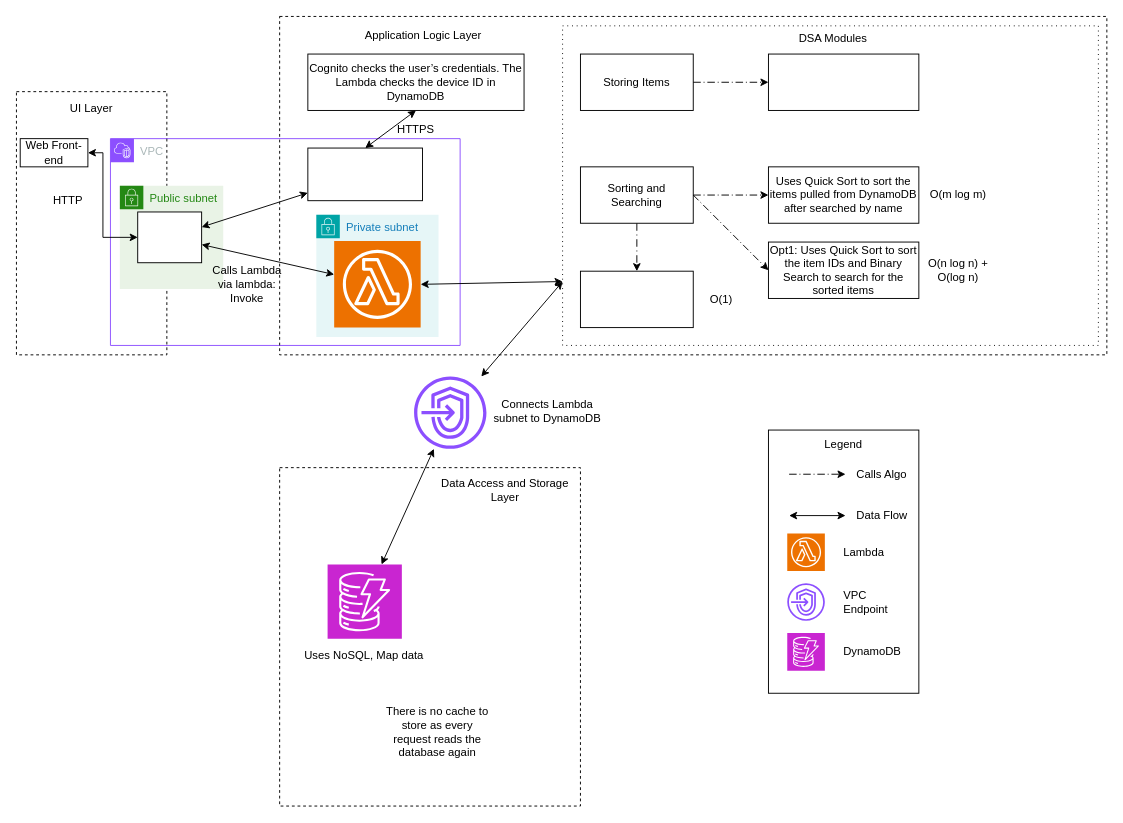
Some shapes in this 1123 by 823 pixel diagram are drawn without their labels. The shapes that lost their labels are listed below. From the top down, each one's centre as x and y in pixels, then its label:
At (843,81): "Only writes the item ID if it does not exist O(1)".
At (365,174): "Internet Gateway".
At (169,237): "EC2 Instance (Flask)".
At (636,299): "Opt2: Look up the item IDs directly from the table".
